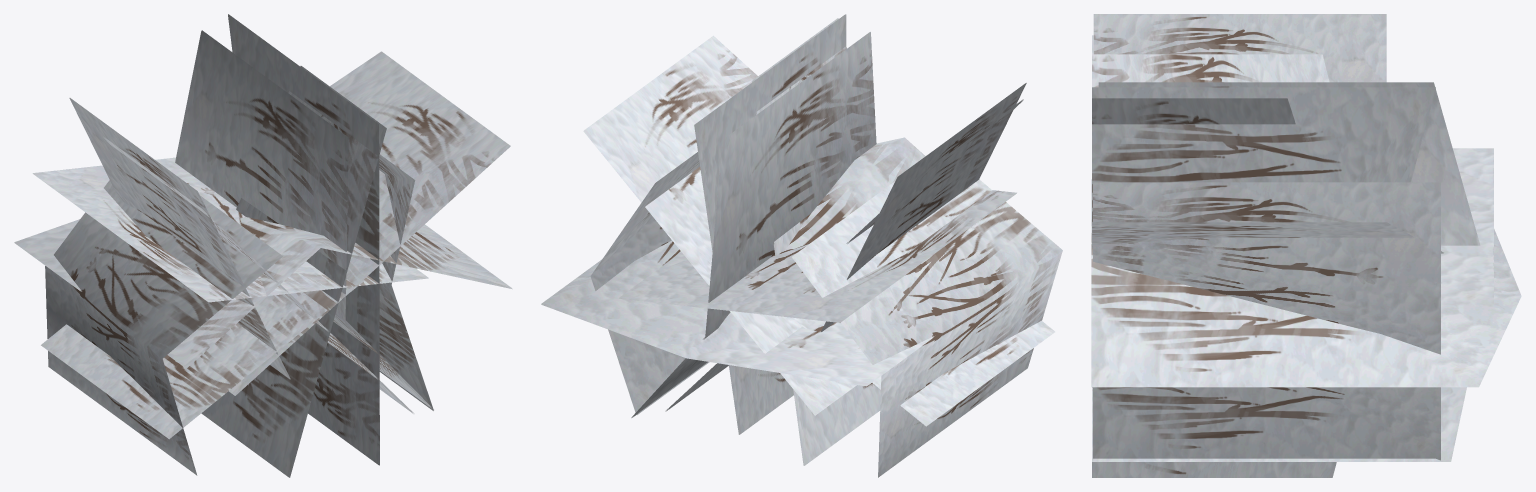
File: grasspatch05base.fbx
3 renders of one model, left to right at view 1: azimuth 30°, elevation 25°; view 2: azimuth 150°, elevation 25°; view 3: azimuth 270°, elevation 25°, orthographic. The views are drawn at different scales.
Visible parts, largest first — view 1: grasspatch05base; view 2: grasspatch05base; view 3: grasspatch05base.
Part boxes in pixels (x1,y1,x2,y2): grasspatch05base: (14,14,512,477); grasspatch05base: (541,14,1062,477); grasspatch05base: (1091,14,1521,477).
Bounding box in the file's own units: 107 × 100 × 100.
